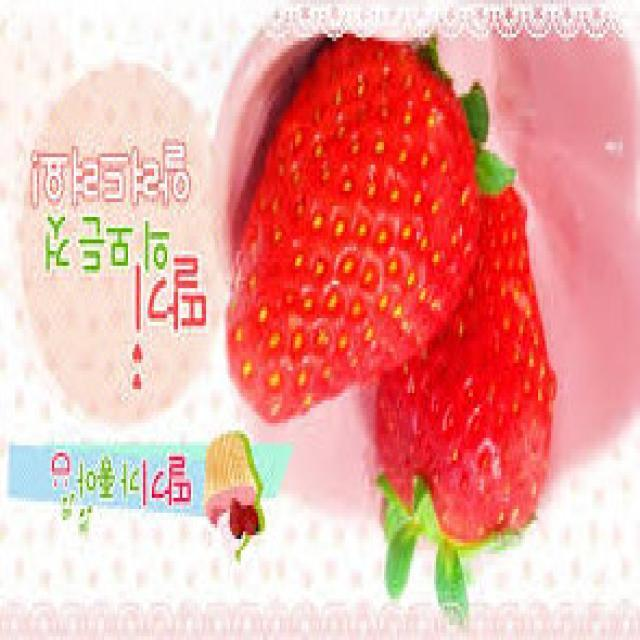straw-ripe: (227, 34, 483, 428), (376, 184, 557, 546)
